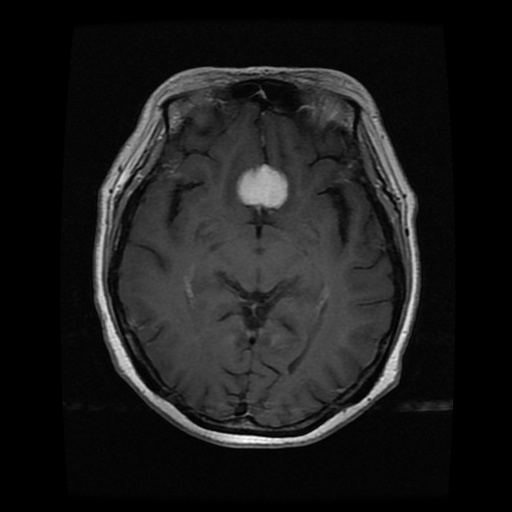meningioma: (237, 162, 289, 209)
